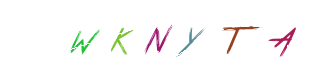A: (193, 0, 273, 80)
K: (106, 0, 186, 80)
N: (113, 0, 193, 80)
T: (170, 0, 250, 80)
W: (59, 0, 139, 80)
Y: (148, 0, 228, 80)
